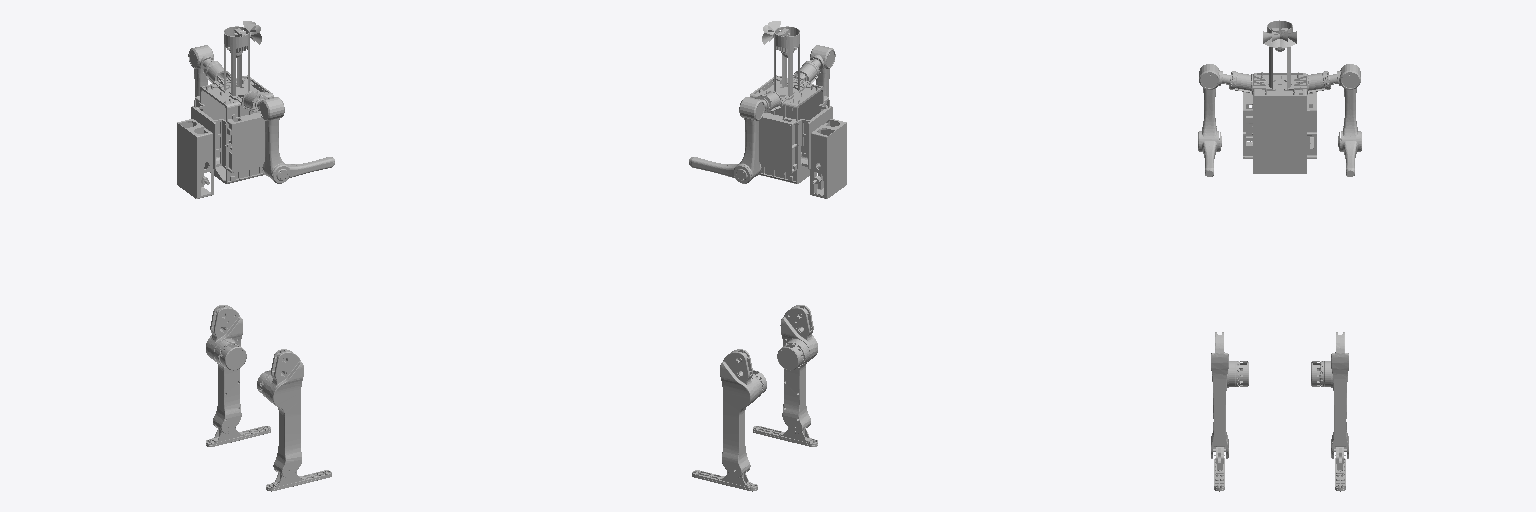
robot.urdf — MagicBot_XS_202605-V02:
<?xml version="1.0" encoding="utf-8"?>
<!-- This URDF was automatically created by SolidWorks to URDF Exporter! Originally created by Stephen Brawner (brawner@gmail.com) 
     Commit Version: 1.6.0-4-g7f85cfe  Build Version: 1.6.7995.38578
     For more information, please see http://wiki.ros.org/sw_urdf_exporter -->
<robot
  name="MagicBot_XS_202605-V02">
  <mujoco>
    <compiler meshdir="package://meshes/magicbot_xs/" balanceinertia="true" discardvisual="false" />
  </mujoco>
  <link
    name="pelvis">
    <inertial>
      <origin
        xyz="-0.00183905 0 0.013597"
        rpy="0 0 0" />
      <mass
        value="5.33369026" />
      <inertia
        ixx="0.06248049"
        ixy="-6.98E-06"
        ixz="0.00010005"
        iyy="0.01661732"
        iyz="5.8E-07"
        izz="0.05900854" />
    </inertial>
    <visual>
      <origin
        xyz="0 0 0"
        rpy="0 0 0" />
      <geometry>
        <mesh filename="package://meshes/magicbot_xs/pelvis.STL" />
        <!-- <box size="0.1 0.3 0.03" /> -->
      </geometry>
      <material
        name="">
        <color
          rgba="0.75294 0.75294 0.75294 1" />
      </material>
    </visual>
    <collision>
      <origin
        xyz="0 0 0"
        rpy="0 0 0" />
      <geometry>
        <!-- <mesh filename="package://meshes/magicbot_xs/pelvis.STL" /> -->
        <box size="0.1 0.3 0.08" />
      </geometry>
    </collision>
  </link>
  <link
    name="left_hip_yaw_link">
    <inertial>
      <origin
        xyz="-0.05515911 -0.00035045 0.01121509"
        rpy="0 0 0" />
      <mass
        value="3.74518864" />
      <inertia
        ixx="0.01140036"
        ixy="9.716E-05"
        ixz="-0.00024282"
        iyy="0.01118458"
        iyz="-2.624E-05"
        izz="0.00939264" />
    </inertial>
    <visual>
      <origin
        xyz="0 0 0"
        rpy="0 0 0" />
      <geometry>
        <mesh
          filename="package://meshes/magicbot_xs/left_hip_yaw_link.STL" />
      </geometry>
      <material
        name="">
        <color
          rgba="0.75294 0.75294 0.75294 1" />
      </material>
    </visual>
    <collision>
      <origin
        xyz="-0.08 0 0"
        rpy="0 1.57 0" />
      <geometry>
        <!-- <mesh filename="package://meshes/magicbot_xs/left_hip_yaw_link.STL" /> -->
        <cylinder radius="0.06" length="0.1" />
      </geometry>
    </collision>
  </link>
  <joint
    name="left_hip_yaw_joint"
    type="revolute">
    <origin
      xyz="0 0.12 -0.149"
      rpy="0 0 0" />
    <parent
      link="pelvis" />
    <child
      link="left_hip_yaw_link" />
    <axis
      xyz="0 0 1" />
    <limit
      lower="-1.5708"
      upper="1.5708"
      effort="150"
      velocity="132" />
  </joint>
  <link
    name="left_hip_roll_link">
    <inertial>
      <origin
        xyz="0.070304 0.018592 -0.0057431"
        rpy="0 0 0" />
      <mass
        value="3.8155" />
      <inertia
        ixx="0.0098987"
        ixy="-0.00019098"
        ixz="0.00014386"
        iyy="0.011679"
        iyz="-0.00066124"
        izz="0.0098174" />
    </inertial>
    <visual>
      <origin
        xyz="0 0 0"
        rpy="0 0 0" />
      <geometry>
        <mesh
          filename="package://meshes/magicbot_xs/left_hip_roll_link.STL" />
      </geometry>
      <material
        name="">
        <color
          rgba="0.75294 0.75294 0.75294 1" />
      </material>
    </visual>
    <collision>
      <origin
        xyz="0 0 0"
        rpy="0 0 0" />
      <geometry>
        <mesh
          filename="package://meshes/magicbot_xs/left_hip_roll_link.STL" />
      </geometry>
    </collision>
  </link>
  <joint
    name="left_hip_roll_joint"
    type="revolute">
    <origin
      xyz="0 0 0"
      rpy="0 0 0" />
    <parent
      link="left_hip_yaw_link" />
    <child
      link="left_hip_roll_link" />
    <axis
      xyz="1 0 0" />
    <limit
      lower="-0.5236"
      upper="0.5236"
      effort="475"
      velocity="200" />
  </joint>
  <link
    name="left_hip_pitch_link">
    <inertial>
      <origin
        xyz="0.0043133 0.1393268 -0.06383899"
        rpy="0 0 0" />
      <mass
        value="5.84897147" />
      <inertia
        ixx="0.12854457"
        ixy="0.00084605"
        ixz="0.00207525"
        iyy="0.12630235"
        iyz="-0.01499261"
        izz="0.01938911" />
    </inertial>
    <visual>
      <origin
        xyz="0 0 0"
        rpy="0 0 0" />
      <geometry>
        <mesh
          filename="package://meshes/magicbot_xs/left_hip_pitch_link.STL" />
      </geometry>
      <material
        name="">
        <color
          rgba="0.75294 0.75294 0.75294 1" />
      </material>
    </visual>
    <collision>
      <origin
        xyz="0 0 0"
        rpy="0 0 0" />
      <geometry>
        <mesh
          filename="package://meshes/magicbot_xs/left_hip_pitch_link.STL" />
      </geometry>
    </collision>
  </link>
  <joint
    name="left_hip_pitch_joint"
    type="revolute">
    <origin
      xyz="0.076 0 0"
      rpy="0 0 0" />
    <parent
      link="left_hip_roll_link" />
    <child
      link="left_hip_pitch_link" />
    <axis
      xyz="0 1 0" />
    <limit
      lower="-1.9199"
      upper="1.9199"
      effort="657"
      velocity="145" />
  </joint>
  <link
    name="left_knee_pitch_link">
    <inertial>
      <origin
        xyz="0.01539045 -0.02197133 -0.1202914"
        rpy="0 0 0" />
      <mass
        value="3.0518192" />
      <inertia
        ixx="0.04389858"
        ixy="-0.00074078"
        ixz="0.00199363"
        iyy="0.04329323"
        iyz="0.00236893"
        izz="0.00576713" />
    </inertial>
    <visual>
      <origin
        xyz="0 0 0"
        rpy="0 0 0" />
      <geometry>
        <mesh
          filename="package://meshes/magicbot_xs/left_knee_pitch_link.STL" />
      </geometry>
      <material
        name="">
        <color
          rgba="0.75294 0.75294 0.75294 1" />
      </material>
    </visual>
    <collision>
      <origin
        xyz="0 0 0"
        rpy="0 0 0" />
      <geometry>
        <mesh
          filename="package://meshes/magicbot_xs/left_knee_pitch_link.STL" />
      </geometry>
    </collision>
  </link>
  <joint
    name="left_knee_pitch_joint"
    type="revolute">
    <origin
      xyz="-0.015 0.105 -0.475"
      rpy="0 0 0" />
    <parent
      link="left_hip_pitch_link" />
    <child
      link="left_knee_pitch_link" />
    <axis
      xyz="0 1 0" />
    <limit
      lower="0"
      upper="2.4435"
      effort="475"
      velocity="200" />
  </joint>
  <link
    name="left_ankle_pitch_link">
    <inertial>
      <origin
        xyz="0.03246646 -2.265E-05 -0.04341602"
        rpy="0 0 0" />
      <mass
        value="0.60286256" />
      <inertia
        ixx="0.00058775"
        ixy="0"
        ixz="0.00035309"
        iyy="0.00263463"
        iyz="4.4E-07"
        izz="0.00221409" />
    </inertial>
    <visual>
      <origin
        xyz="0 0 0"
        rpy="0 0 0" />
      <geometry>
        <mesh
          filename="package://meshes/magicbot_xs/left_ankle_pitch_link.STL" />
      </geometry>
      <material
        name="">
        <color
          rgba="0.75294 0.75294 0.75294 1" />
      </material>
    </visual>
    <collision>
      <origin
        xyz="0 0 0"
        rpy="0 0 0" />
      <geometry>
        <mesh
          filename="package://meshes/magicbot_xs/left_ankle_pitch_link.STL" />
      </geometry>
    </collision>
  </link>
  <joint
    name="left_ankle_pitch_joint"
    type="revolute">
    <origin
      xyz="0.015 0 -0.395"
      rpy="0 0 0" />
    <parent
      link="left_knee_pitch_link" />
    <child
      link="left_ankle_pitch_link" />
    <axis
      xyz="0 1 0" />
    <limit
      lower="-1.309"
      upper="0.5236"
      effort="150"
      velocity="132" />
  </joint>
  <link
    name="right_hip_yaw_link">
    <inertial>
      <origin
        xyz="-0.05515911 0.0005626 0.01121498"
        rpy="0 0 0" />
      <mass
        value="3.74518864" />
      <inertia
        ixx="0.01139964"
        ixy="-5.349E-05"
        ixz="-0.00024285"
        iyy="0.01118459"
        iyz="1.21E-05"
        izz="0.00939192" />
    </inertial>
    <visual>
      <origin
        xyz="0 0 0"
        rpy="0 0 0" />
      <geometry>
        <mesh
          filename="package://meshes/magicbot_xs/right_hip_yaw_link.STL" />
      </geometry>
      <material
        name="">
        <color
          rgba="0.75294 0.75294 0.75294 1" />
      </material>
    </visual>
    <collision>
      <origin
        xyz="-0.08 0 0"
        rpy="0 1.57 0" />
      <geometry>
        <!-- <mesh filename="package://meshes/magicbot_xs/right_hip_yaw_link.STL" /> -->
        <cylinder radius="0.06" length="0.1" />
      </geometry>
    </collision>
  </link>
  <joint
    name="right_hip_yaw_joint"
    type="revolute">
    <origin
      xyz="0 -0.12 -0.149"
      rpy="0 0 0" />
    <parent
      link="pelvis" />
    <child
      link="right_hip_yaw_link" />
    <axis
      xyz="0 0 1" />
    <limit
      lower="-1.5708"
      upper="1.5708"
      effort="150"
      velocity="132" />
  </joint>
  <link
    name="right_hip_roll_link">
    <inertial>
      <origin
        xyz="0.07009069 -0.01859219 -0.00599743"
        rpy="0 0 0" />
      <mass
        value="3.81553146" />
      <inertia
        ixx="0.00988732"
        ixy="0.00023068"
        ixz="0.00011616"
        iyy="0.01165804"
        iyz="0.00062418"
        izz="0.00980788" />
    </inertial>
    <visual>
      <origin
        xyz="0 0 0"
        rpy="0 0 0" />
      <geometry>
        <mesh
          filename="package://meshes/magicbot_xs/right_hip_roll_link.STL" />
      </geometry>
      <material
        name="">
        <color
          rgba="0.75294 0.75294 0.75294 1" />
      </material>
    </visual>
    <collision>
      <origin
        xyz="0 0 0"
        rpy="0 0 0" />
      <geometry>
        <mesh
          filename="package://meshes/magicbot_xs/right_hip_roll_link.STL" />
      </geometry>
    </collision>
  </link>
  <joint
    name="right_hip_roll_joint"
    type="revolute">
    <origin
      xyz="0 0 0"
      rpy="0 0 0" />
    <parent
      link="right_hip_yaw_link" />
    <child
      link="right_hip_roll_link" />
    <axis
      xyz="1 0 0" />
    <limit
      lower="-0.5236"
      upper="0.5236"
      effort="475"
      velocity="200" />
  </joint>
  <link
    name="right_hip_pitch_link">
    <inertial>
      <origin
        xyz="0.00417361 -0.13932722 -0.06383866"
        rpy="0 0 0" />
      <mass
        value="5.84896439" />
      <inertia
        ixx="0.12854423"
        ixy="-0.00090783"
        ixz="0.0021496"
        iyy="0.12630917"
        iyz="0.01499237"
        izz="0.01939595" />
    </inertial>
    <visual>
      <origin
        xyz="0 0 0"
        rpy="0 0 0" />
      <geometry>
        <mesh
          filename="package://meshes/magicbot_xs/right_hip_pitch_link.STL" />
      </geometry>
      <material
        name="">
        <color
          rgba="0.75294 0.75294 0.75294 1" />
      </material>
    </visual>
    <collision>
      <origin
        xyz="0 0 0"
        rpy="0 0 0" />
      <geometry>
        <mesh
          filename="package://meshes/magicbot_xs/right_hip_pitch_link.STL" />
      </geometry>
    </collision>
  </link>
  <joint
    name="right_hip_pitch_joint"
    type="revolute">
    <origin
      xyz="0.076 0 0"
      rpy="0 0 0" />
    <parent
      link="right_hip_roll_link" />
    <child
      link="right_hip_pitch_link" />
    <axis
      xyz="0 1 0" />
    <limit
      lower="-1.9199"
      upper="1.9199"
      effort="657"
      velocity="145" />
  </joint>
  <link
    name="right_knee_pitch_link">
    <inertial>
      <origin
        xyz="0.0153382 0.02219475 -0.12001219"
        rpy="0 0 0" />
      <mass
        value="3.06158529" />
      <inertia
        ixx="0.04383142"
        ixy="0.00074446"
        ixz="0.00198603"
        iyy="0.0432"
        iyz="-0.00239177"
        izz="0.00582486" />
    </inertial>
    <visual>
      <origin
        xyz="0 0 0"
        rpy="0 0 0" />
      <geometry>
        <mesh
          filename="package://meshes/magicbot_xs/right_knee_pitch_link.STL" />
      </geometry>
      <material
        name="">
        <color
          rgba="0.75294 0.75294 0.75294 1" />
      </material>
    </visual>
    <collision>
      <origin
        xyz="0 0 0"
        rpy="0 0 0" />
      <geometry>
        <mesh
          filename="package://meshes/magicbot_xs/right_knee_pitch_link.STL" />
      </geometry>
    </collision>
  </link>
  <joint
    name="right_knee_pitch_joint"
    type="revolute">
    <origin
      xyz="-0.015 -0.105 -0.475"
      rpy="0 0 0" />
    <parent
      link="right_hip_pitch_link" />
    <child
      link="right_knee_pitch_link" />
    <axis
      xyz="0 1 0" />
    <limit
      lower="0"
      upper="2.4435"
      effort="475"
      velocity="200" />
  </joint>
  <link
    name="right_ankle_pitch_link">
    <inertial>
      <origin
        xyz="0.03246635 -2.264E-05 -0.04340321"
        rpy="0 0 0" />
      <mass
        value="0.60312224" />
      <inertia
        ixx="0.00058798"
        ixy="0"
        ixz="0.00035309"
        iyy="0.00263487"
        iyz="4.4E-07"
        izz="0.0022141" />
    </inertial>
    <visual>
      <origin
        xyz="0 0 0"
        rpy="0 0 0" />
      <geometry>
        <mesh
          filename="package://meshes/magicbot_xs/right_ankle_pitch_link.STL" />
      </geometry>
      <material
        name="">
        <color
          rgba="0.75294 0.75294 0.75294 1" />
      </material>
    </visual>
    <collision>
      <origin
        xyz="0 0 0"
        rpy="0 0 0" />
      <geometry>
        <mesh
          filename="package://meshes/magicbot_xs/right_ankle_pitch_link.STL" />
      </geometry>
    </collision>
  </link>
  <joint
    name="right_ankle_pitch_joint"
    type="revolute">
    <origin
      xyz="0.015 0 -0.395"
      rpy="0 0 0" />
    <parent
      link="right_knee_pitch_link" />
    <child
      link="right_ankle_pitch_link" />
    <axis
      xyz="0 1 0" />
    <limit
      lower="-1.309"
      upper="0.5236"
      effort="150"
      velocity="132" />
  </joint>
  <link
    name="waist_yaw_link">
    <inertial>
      <origin
        xyz="-0.05830799 0.00172678 0.17742035"
        rpy="0 0 0" />
      <mass
        value="18.05189492" />
      <inertia
        ixx="0.37219446"
        ixy="0.00120963"
        ixz="-0.0558147"
        iyy="0.39783"
        iyz="0.00166401"
        izz="0.212599" />
    </inertial>
    <visual>
      <origin
        xyz="0 0 0"
        rpy="0 0 0" />
      <geometry>
        <mesh
          filename="package://meshes/magicbot_xs/waist_yaw_link.STL" />
      </geometry>
      <material
        name="">
        <color
          rgba="0.75294 0.75294 0.75294 1" />
      </material>
    </visual>
    <collision>
      <origin
        xyz="0 0 0"
        rpy="0 0 0" />
      <geometry>
        <mesh
          filename="package://meshes/magicbot_xs/waist_yaw_link.STL" />
      </geometry>
    </collision>
  </link>
  <joint
    name="waist_yaw_joint"
    type="revolute">
    <origin
      xyz="0 0 0.109"
      rpy="0 0 0" />
    <parent
      link="pelvis" />
    <child
      link="waist_yaw_link" />
    <axis
      xyz="0 0 1" />
    <limit
      lower="-0.26167"
      upper="0.26167"
      effort="150"
      velocity="132" />
  </joint>
  <link
    name="left_shoulder_pitch_link">
    <inertial>
      <origin
        xyz="0.011216 0.042612 -0.17607"
        rpy="0 0 0" />
      <mass
        value="1.1292" />
      <inertia
        ixx="0.013355"
        ixy="0.00011768"
        ixz="0.00095233"
        iyy="0.013102"
        iyz="-0.0013744"
        izz="0.00098844" />
    </inertial>
    <visual>
      <origin
        xyz="0 0 0"
        rpy="0 0 0" />
      <geometry>
        <mesh
          filename="package://meshes/magicbot_xs/left_shoulder_pitch_link.STL" />
      </geometry>
      <material
        name="">
        <color
          rgba="0.75294 0.75294 0.75294 1" />
      </material>
    </visual>
    <collision>
      <origin
        xyz="0 0 0"
        rpy="0 0 0" />
      <geometry>
        <mesh
          filename="package://meshes/magicbot_xs/left_shoulder_pitch_link.STL" />
      </geometry>
    </collision>
  </link>
  <joint
    name="left_shoulder_pitch_joint"
    type="revolute">
    <origin
      xyz="0 0.18124 0.36077"
      rpy="0.17453 0 0" />
    <parent
      link="waist_yaw_link" />
    <child
      link="left_shoulder_pitch_link" />
    <axis
      xyz="0 1 0" />
    <limit
      lower="-1.5708"
      upper="1.5708"
      effort="55"
      velocity="135" />
  </joint>
  <link
    name="left_elbow_pitch_link">
    <inertial>
      <origin
        xyz="0.07315452 0.00237538 -0.01054433"
        rpy="0 0 0" />
      <mass
        value="0.27477759" />
      <inertia
        ixx="0.00027581"
        ixy="4.567E-05"
        ixz="0.00015686"
        iyy="0.00194597"
        iyz="-7.25E-06"
        izz="0.00207181" />
    </inertial>
    <visual>
      <origin
        xyz="0 0 0"
        rpy="0 0 0" />
      <geometry>
        <mesh
          filename="package://meshes/magicbot_xs/left_elbow_pitch_link.STL" />
      </geometry>
      <material
        name="">
        <color
          rgba="0.75294 0.75294 0.75294 1" />
      </material>
    </visual>
    <collision>
      <origin
        xyz="0 0 0"
        rpy="0 0 0" />
      <geometry>
        <mesh
          filename="package://meshes/magicbot_xs/left_elbow_pitch_link.STL" />
      </geometry>
    </collision>
  </link>
  <joint
    name="left_elbow_pitch_joint"
    type="revolute">
    <origin
      xyz="0.019 0.037747 -0.25381"
      rpy="-0.17453 0 0" />
    <parent
      link="left_shoulder_pitch_link" />
    <child
      link="left_elbow_pitch_link" />
    <axis
      xyz="0 1 0" />
    <limit
      lower="-0.5236"
      upper="1.5708"
      effort="55"
      velocity="135" />
  </joint>
  <link
    name="right_shoulder_pitch_link">
    <inertial>
      <origin
        xyz="0.01123751 -0.04260933 -0.17619667"
        rpy="0 0 0" />
      <mass
        value="1.1267" />
      <inertia
        ixx="0.0133177"
        ixy="-0.00011757"
        ixz="0.00095166"
        iyy="0.01306516"
        iyz="0.00136907"
        izz="0.00098628" />
    </inertial>
    <visual>
      <origin
        xyz="0 0 0"
        rpy="0 0 0" />
      <geometry>
        <mesh
          filename="package://meshes/magicbot_xs/right_shoulder_pitch_link.STL" />
      </geometry>
      <material
        name="">
        <color
          rgba="0.75294 0.75294 0.75294 1" />
      </material>
    </visual>
    <collision>
      <origin
        xyz="0 0 0"
        rpy="0 0 0" />
      <geometry>
        <mesh
          filename="package://meshes/magicbot_xs/right_shoulder_pitch_link.STL" />
      </geometry>
    </collision>
  </link>
  <joint
    name="right_shoulder_pitch_joint"
    type="revolute">
    <origin
      xyz="0 -0.18124 0.36077"
      rpy="-0.17453 0 0" />
    <parent
      link="waist_yaw_link" />
    <child
      link="right_shoulder_pitch_link" />
    <axis
      xyz="0 1 0" />
    <limit
      lower="-1.5708"
      upper="1.5708"
      effort="55"
      velocity="135" />
  </joint>
  <link
    name="right_elbow_pitch_link">
    <inertial>
      <origin
        xyz="0.07314517 -0.00237688 -0.0105417"
        rpy="0 0 0" />
      <mass
        value="0.27472102" />
      <inertia
        ixx="0.00027591"
        ixy="-4.564E-05"
        ixz="0.00015687"
        iyy="0.00194555"
        iyz="7.24E-06"
        izz="0.00207126" />
    </inertial>
    <visual>
      <origin
        xyz="0 0 0"
        rpy="0 0 0" />
      <geometry>
        <mesh
          filename="package://meshes/magicbot_xs/right_elbow_pitch_link.STL" />
      </geometry>
      <material
        name="">
        <color
          rgba="0.75294 0.75294 0.75294 1" />
      </material>
    </visual>
    <collision>
      <origin
        xyz="0 0 0"
        rpy="0 0 0" />
      <geometry>
        <mesh
          filename="package://meshes/magicbot_xs/right_elbow_pitch_link.STL" />
      </geometry>
    </collision>
  </link>
  <joint
    name="right_elbow_pitch_joint"
    type="revolute">
    <origin
      xyz="0.019 -0.037747 -0.25381"
      rpy="0.17453 0 0" />
    <parent
      link="right_shoulder_pitch_link" />
    <child
      link="right_elbow_pitch_link" />
    <axis
      xyz="0 1 0" />
    <limit
      lower="-0.5236"
      upper="1.5708"
      effort="55"
      velocity="135" />
  </joint>
</robot>

--- Render facts (derived) ---
Views: 3 orthographic renders of the robot side by side, from view 1: azimuth 30°, elevation 25°; view 2: azimuth 150°, elevation 25°; view 3: azimuth 270°, elevation 25°.
Robot: MagicBot_XS_202605-V02 — 16 links, 15 joints (15 revolute); root link pelvis; default pose: every joint at zero.
Links seen in each view (by area): view 1: waist_yaw_link, right_knee_pitch_link, left_knee_pitch_link, right_shoulder_pitch_link, right_elbow_pitch_link, left_shoulder_pitch_link, right_ankle_pitch_link, left_ankle_pitch_link; view 2: waist_yaw_link, left_knee_pitch_link, right_knee_pitch_link, left_shoulder_pitch_link, left_elbow_pitch_link, right_shoulder_pitch_link, left_ankle_pitch_link, right_ankle_pitch_link; view 3: waist_yaw_link, left_knee_pitch_link, right_knee_pitch_link, left_shoulder_pitch_link, right_shoulder_pitch_link, left_elbow_pitch_link, right_elbow_pitch_link.
Boxes of the visible links, x1,y1,x2,y2 form: waist_yaw_link: (177, 21, 278, 198); right_knee_pitch_link: (257, 349, 303, 477); left_knee_pitch_link: (206, 305, 246, 433); right_shoulder_pitch_link: (255, 95, 285, 179); right_elbow_pitch_link: (262, 157, 334, 183); left_shoulder_pitch_link: (188, 45, 213, 106); right_ankle_pitch_link: (266, 470, 331, 491); left_ankle_pitch_link: (206, 426, 270, 446); waist_yaw_link: (745, 21, 846, 198); left_knee_pitch_link: (720, 349, 766, 477); right_knee_pitch_link: (777, 305, 817, 433); left_shoulder_pitch_link: (738, 95, 768, 179); left_elbow_pitch_link: (689, 157, 761, 183); right_shoulder_pitch_link: (810, 45, 835, 106); left_ankle_pitch_link: (692, 470, 757, 491); right_ankle_pitch_link: (753, 426, 817, 446); waist_yaw_link: (1229, 20, 1330, 173); left_knee_pitch_link: (1311, 332, 1348, 458); right_knee_pitch_link: (1211, 332, 1248, 458); left_shoulder_pitch_link: (1327, 64, 1360, 140); right_shoulder_pitch_link: (1199, 64, 1232, 140); left_elbow_pitch_link: (1338, 131, 1361, 176); right_elbow_pitch_link: (1198, 131, 1221, 176).
Bounding box of the posed robot: 0.49 × 0.615 × 1.8 m (x, y, z).
Meshes: 16 distinct files referenced, 9 mesh visuals loaded (9 binary STL); not drawn: 7 (reference not matched to a file when rendering).
